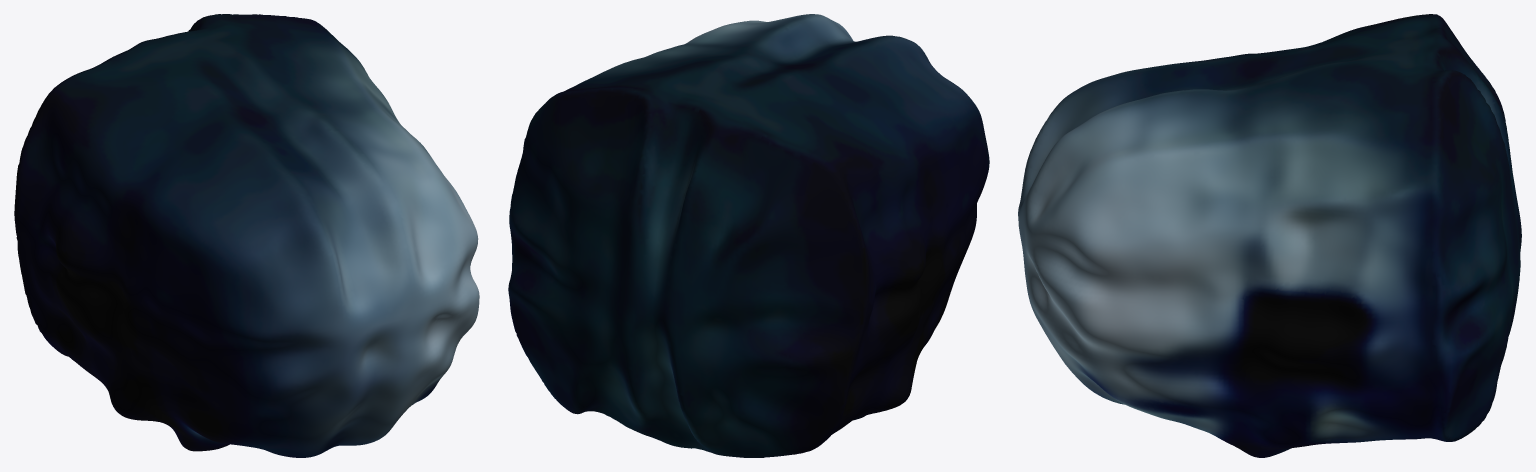
File: backpack.glb
3 renders of one model, left to right at view 1: azimuth 30°, elevation 25°; view 2: azimuth 150°, elevation 25°; view 3: azimuth 270°, elevation 25°, orthographic. The views are drawn at different scales.
Size of the model in its own units: 0.8495 by 0.8102 by 0.9996.
